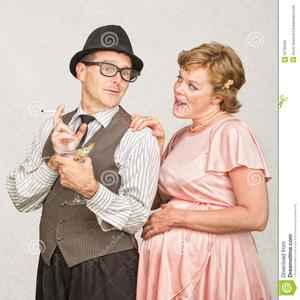cigarette: (40, 108, 69, 114)
